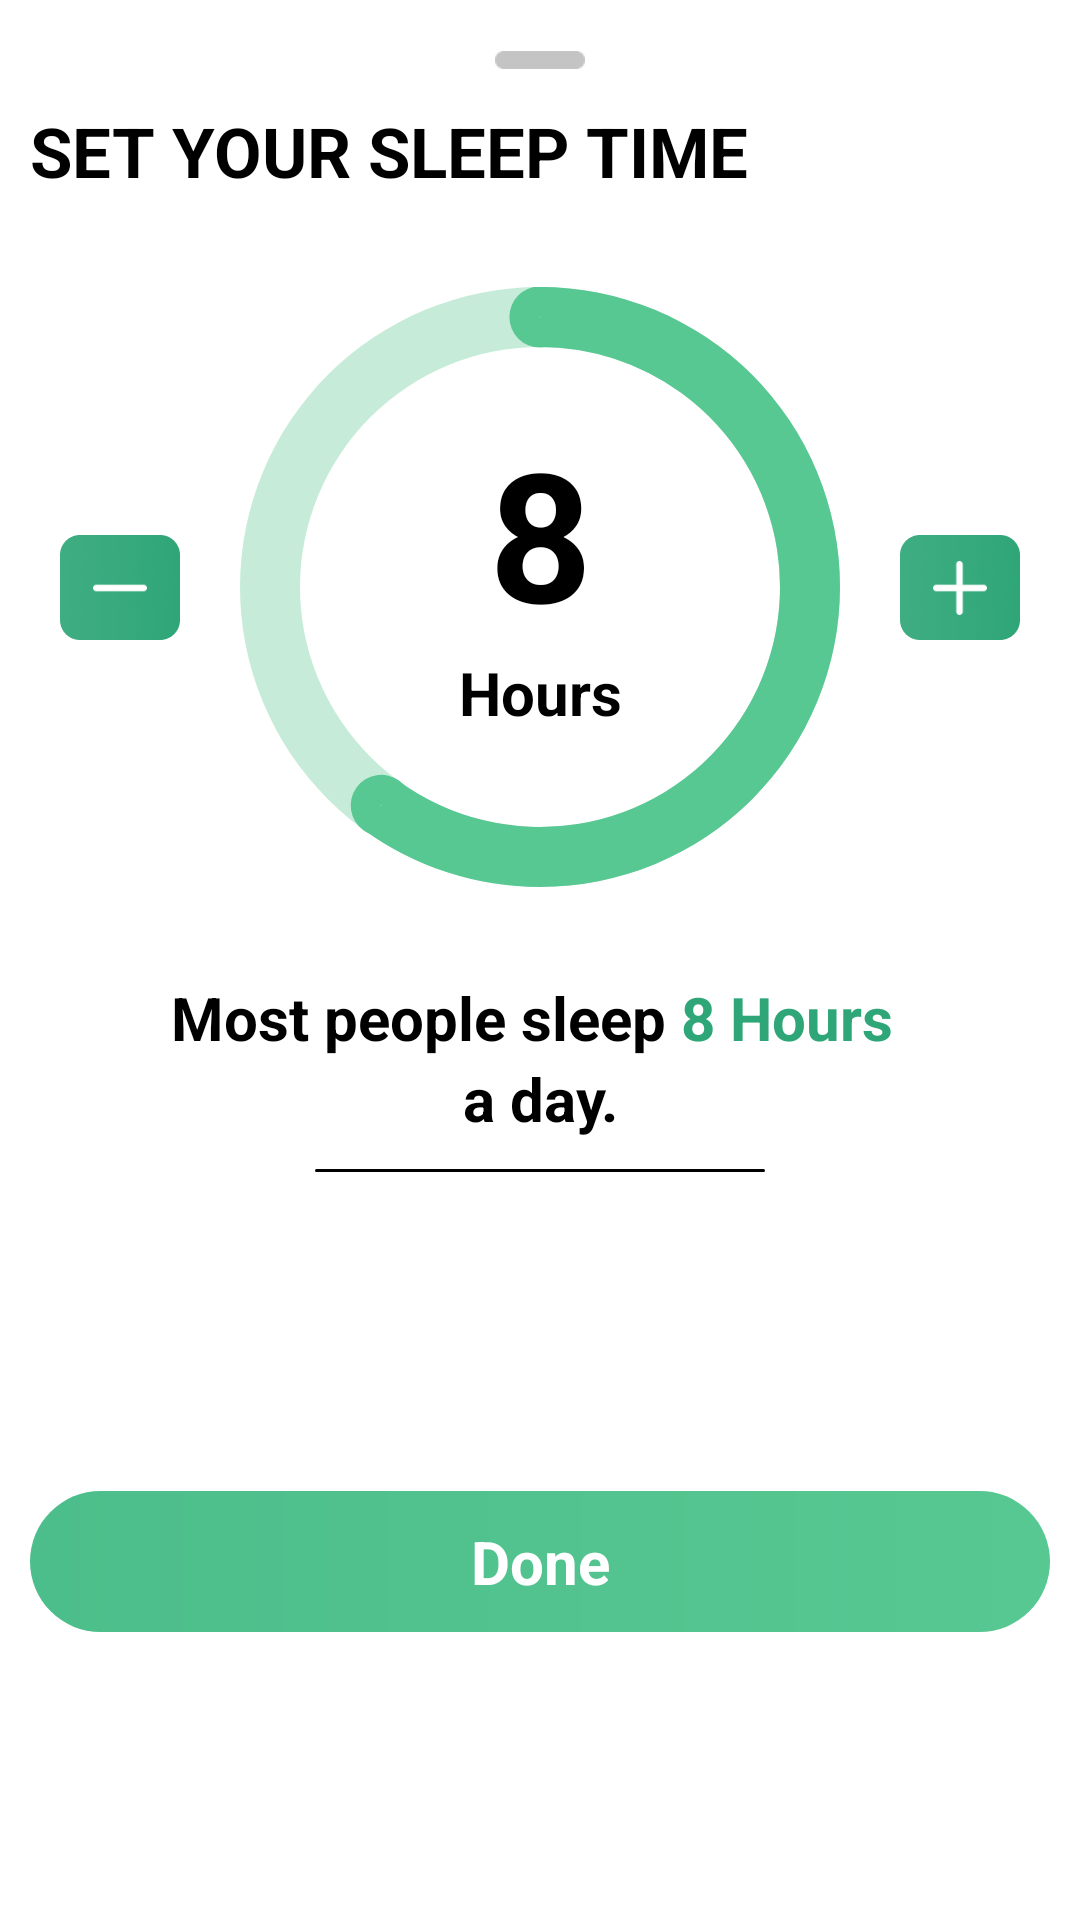

Point at icon controls on the screen. Image size 1080px×1920px, points as point (x, y).
minus anim: point (120, 587)
plus button: point (960, 587)
